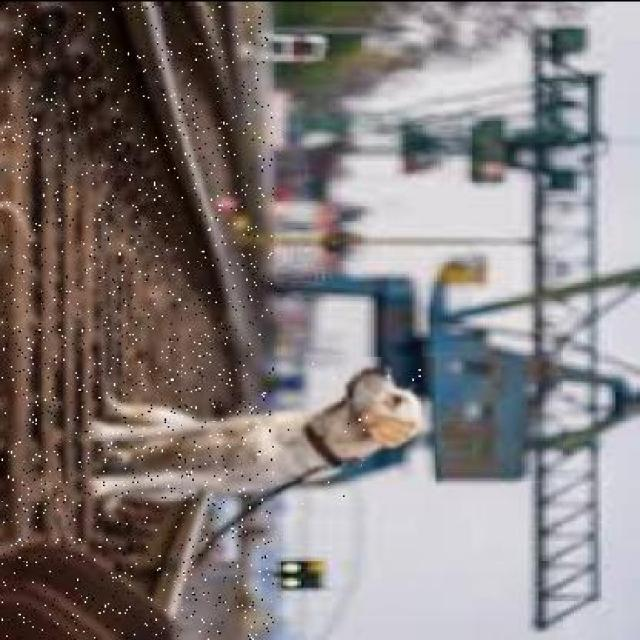danger: (82, 356, 435, 514)
rail: (2, 5, 273, 638)
